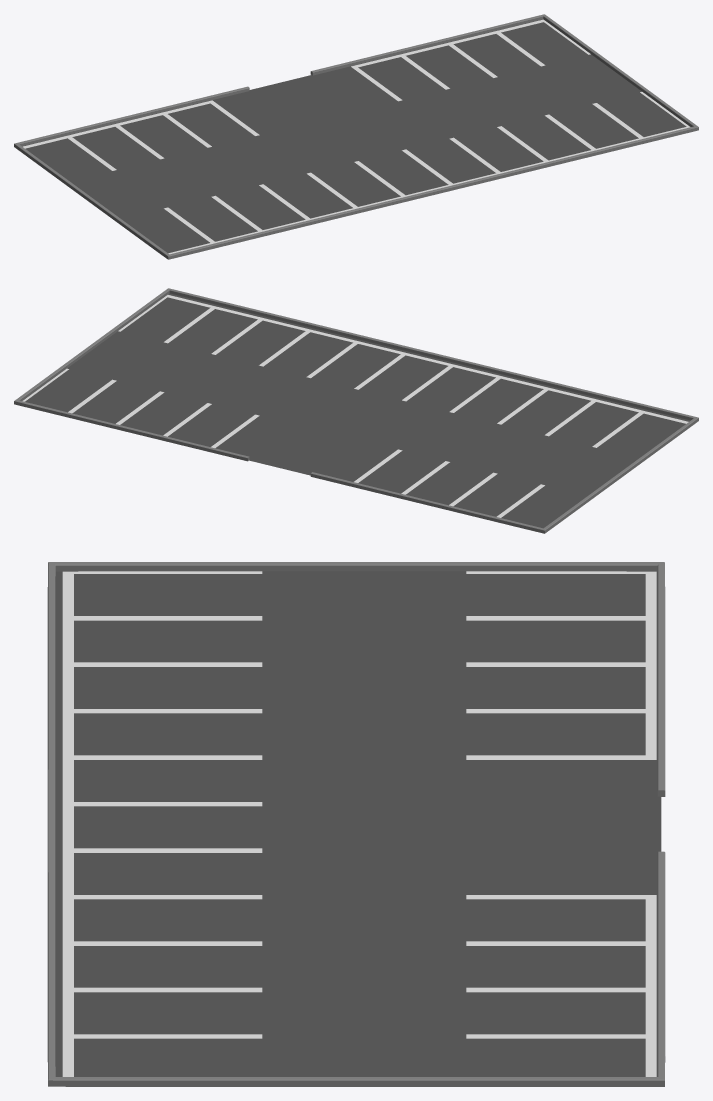
Rendered from ParkingBG_01.glb.
3 renders of one model, top to bottom at view 1: azimuth 30°, elevation 25°; view 2: azimuth 150°, elevation 25°; view 3: azimuth 270°, elevation 25°, orthographic. The views are drawn at different scales.
Parts seen in each view (by area): view 1: ParkingBG_01; view 2: ParkingBG_01; view 3: ParkingBG_01.
Part boxes in pixels (left/top/right/bottom): ParkingBG_01: left=14, top=14, right=698, bottom=259; ParkingBG_01: left=14, top=288, right=698, bottom=533; ParkingBG_01: left=47, top=562, right=665, bottom=1086.
Size of the model in its own units: 24.15 by 0.15 by 12.16.
1 material, 1 textured.
